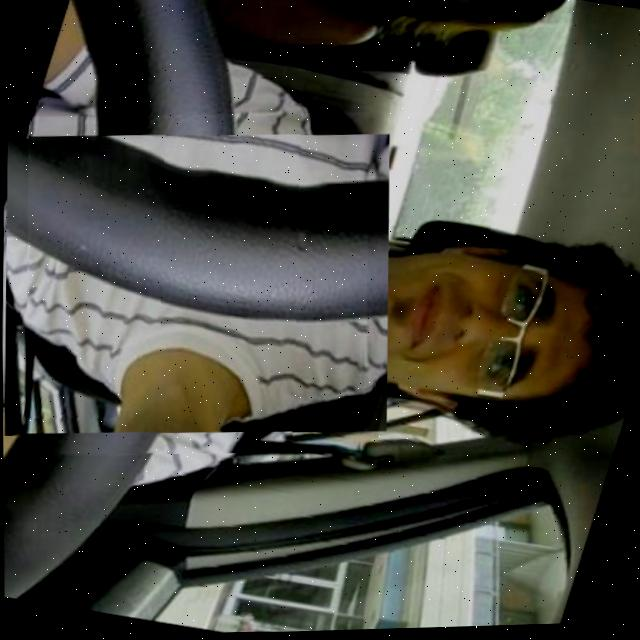no-seatbelt: (22, 107, 370, 461)
